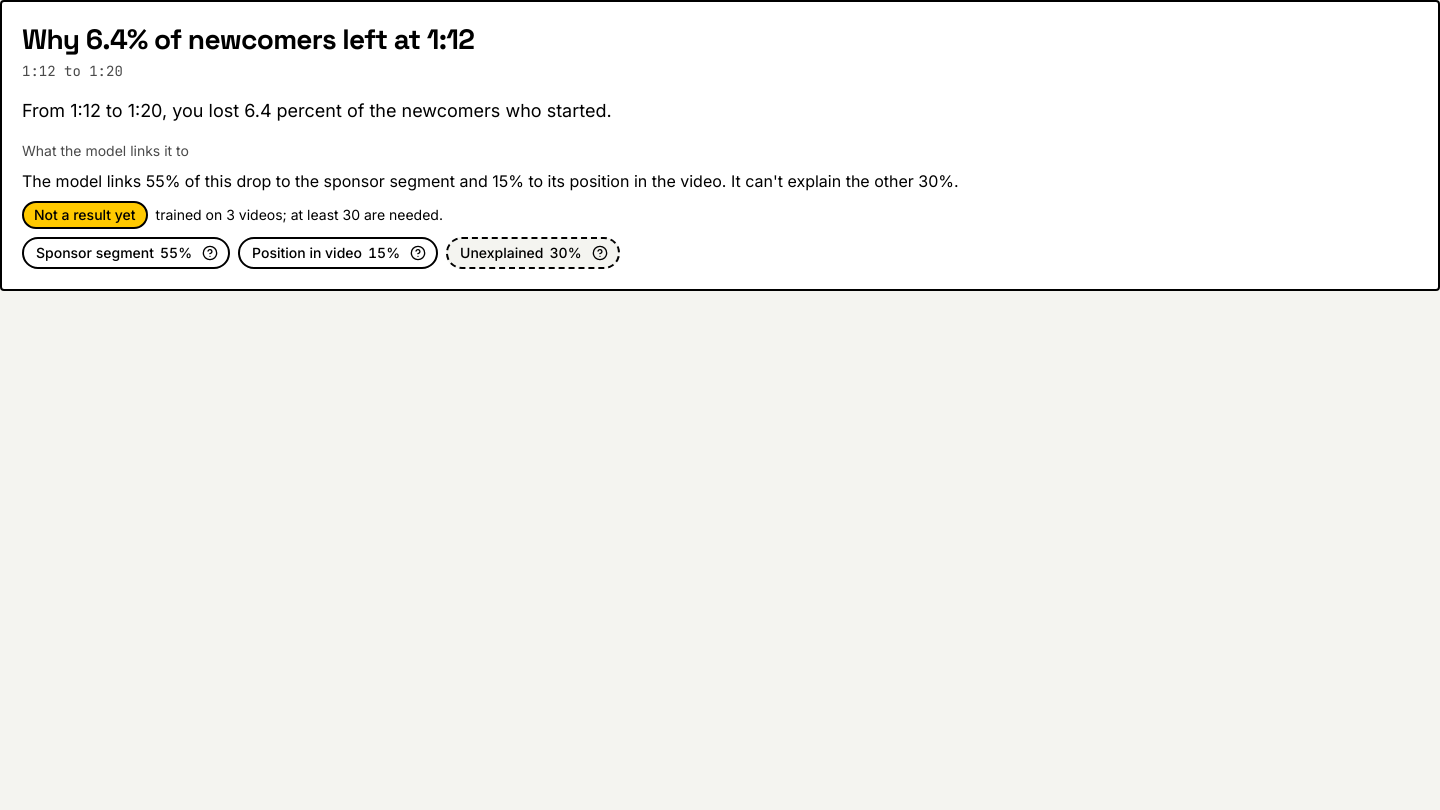
Test case: DropPanel › explains each chip in a note behind its question mark
Click the button named "What \"Position in video\" means". click: (418, 253)
box: x1=406 y1=241 x2=430 y2=265
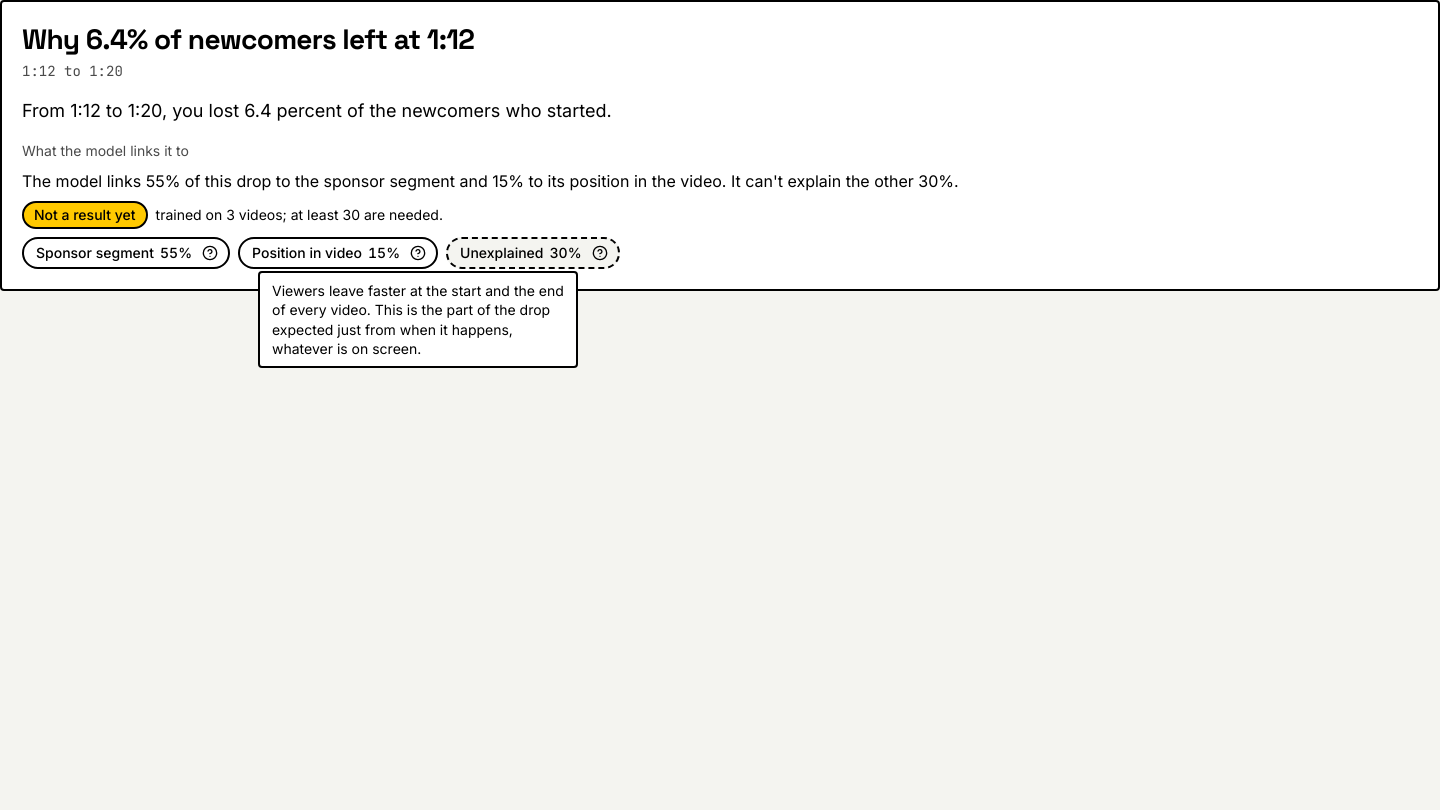
Expected: the dialog shows "Viewers leave faster at the start", x1=272 y1=282 x2=564 y2=357
Press Escape
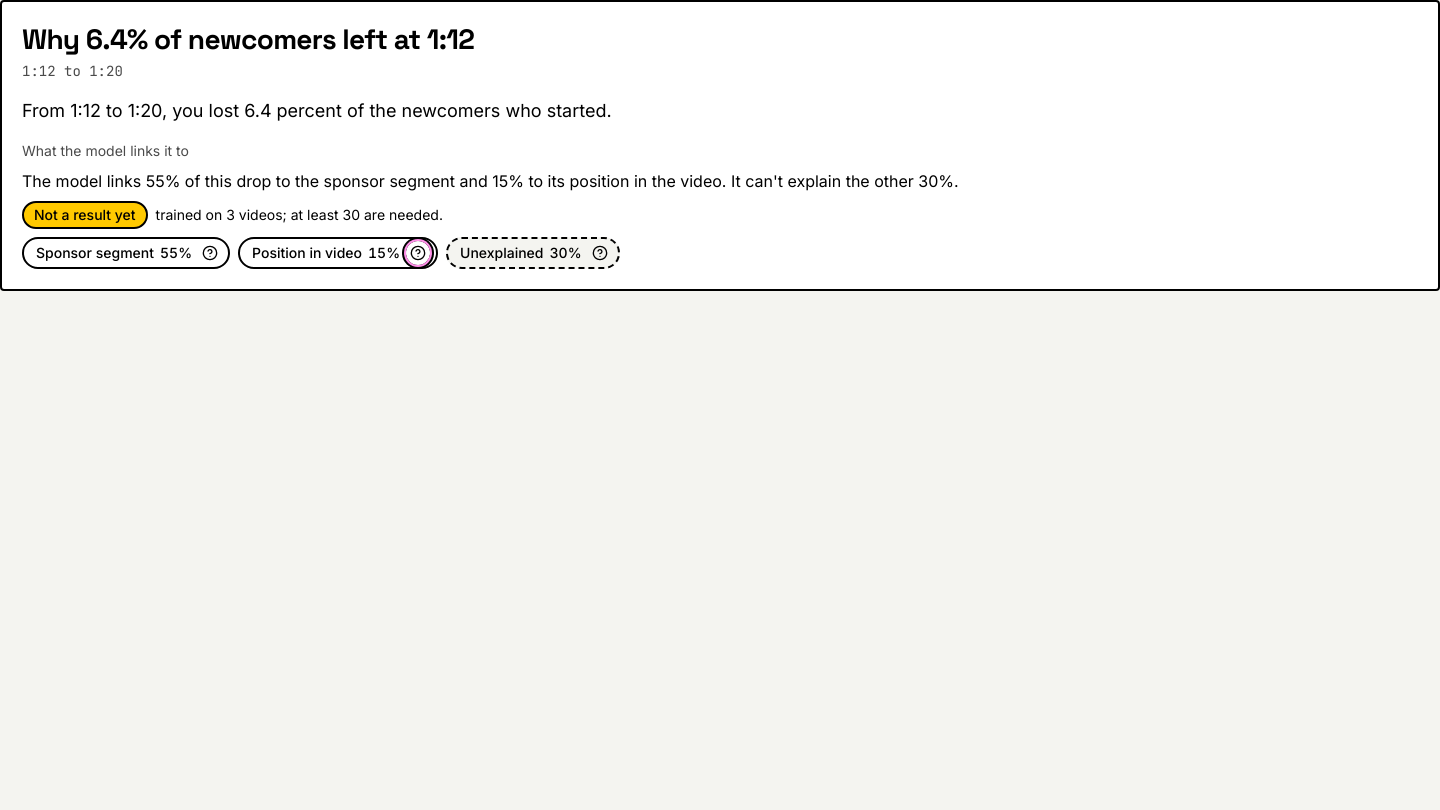
Click the button named "What \"Unexplained\" means". click: (600, 253)
box: x1=588 y1=241 x2=612 y2=265
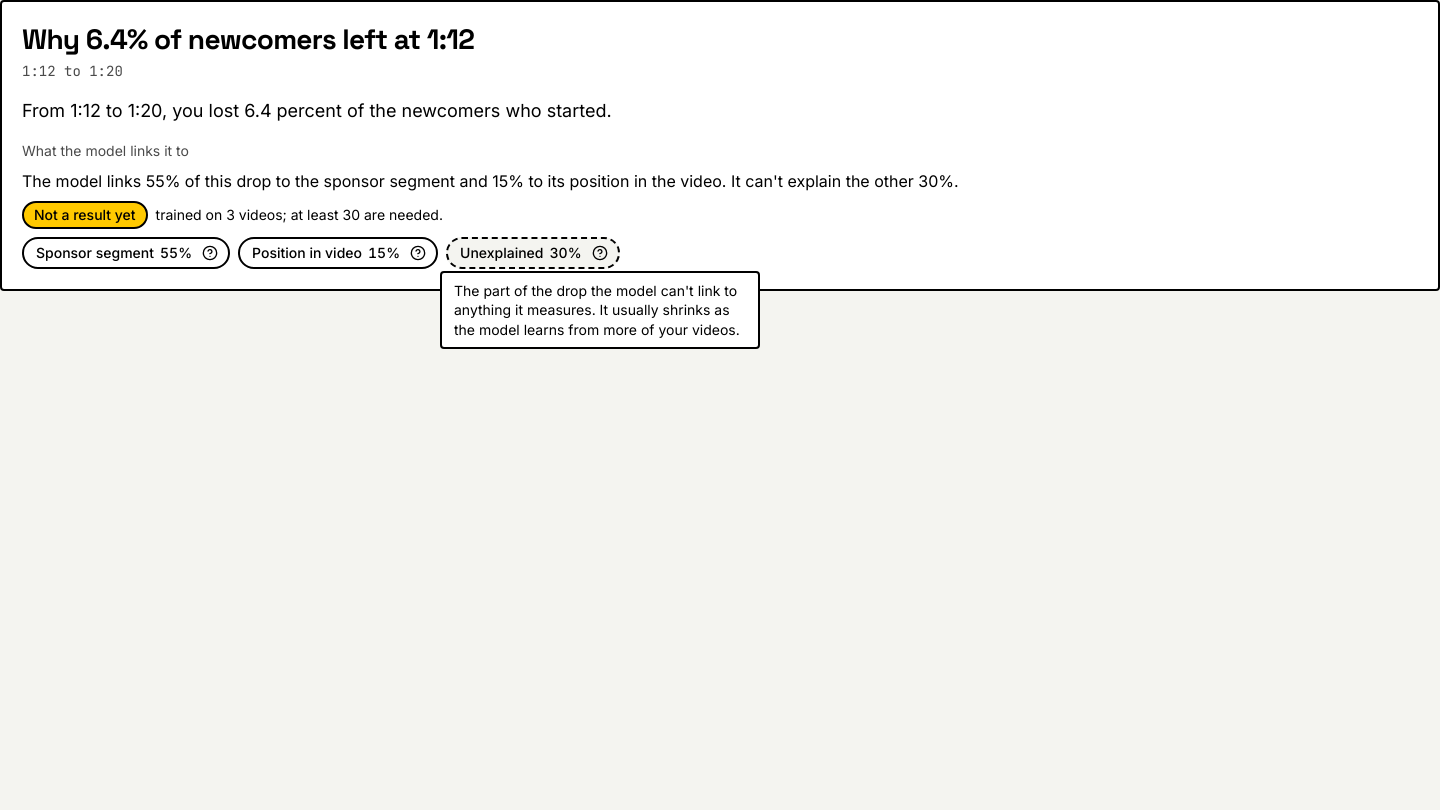
Expected: the number of buttons named "What \"Sponsor segment\" means" is 3, x1=198 y1=241 x2=222 y2=265; x1=406 y1=241 x2=430 y2=265; x1=588 y1=241 x2=612 y2=265
Expected: the dialog shows "can't link to anything it measures", x1=454 y1=282 x2=740 y2=338
